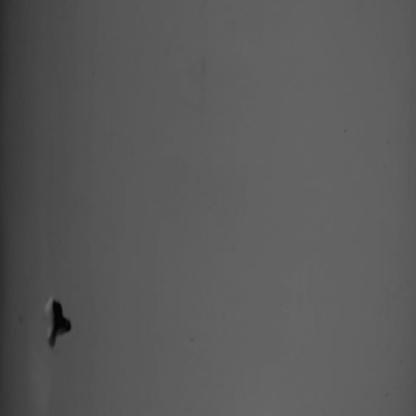kongdong: (39, 291, 83, 352)
